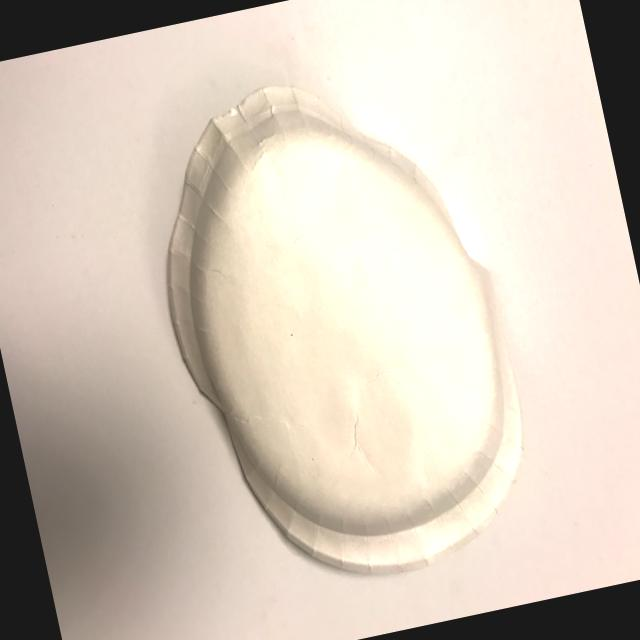Paper: (106, 42, 564, 632)
